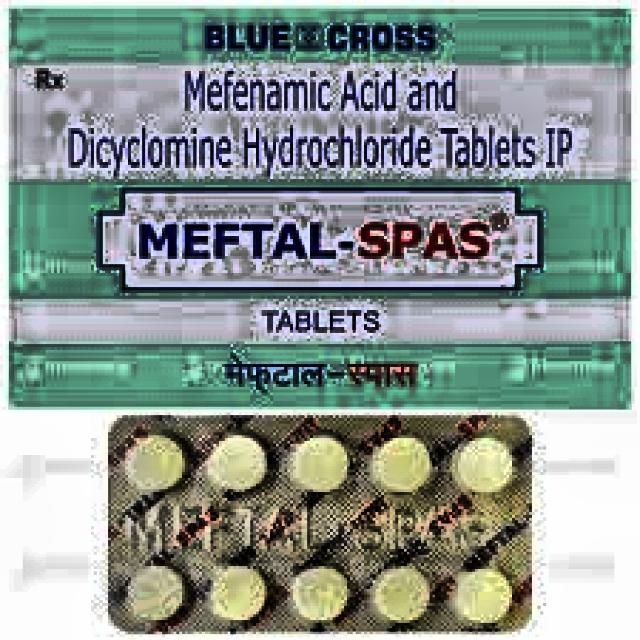Meftal: (85, 179, 538, 306)
